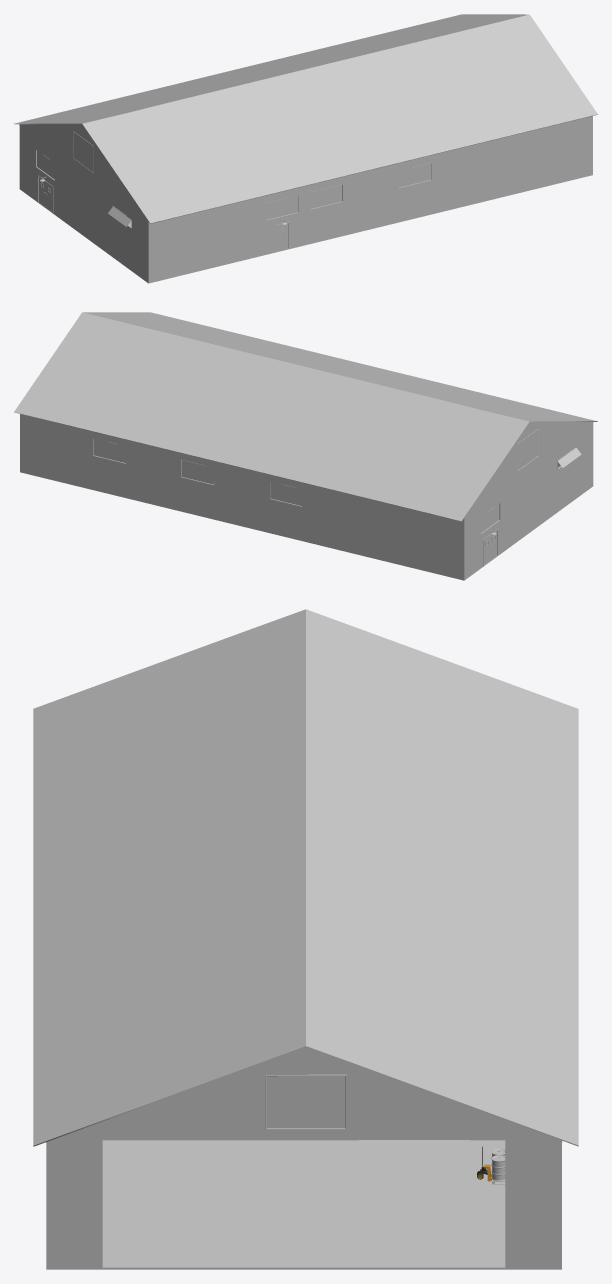
File: AirportAngar02.fbx
3 renders of one model, top to bottom at view 1: azimuth 30°, elevation 25°; view 2: azimuth 150°, elevation 25°; view 3: azimuth 270°, elevation 25°, orthographic. The views are drawn at different scales.
Parts seen in each view (by area): view 1: WHRoofWall3, WHWall1.001, WHFloor.003; view 2: WHRoofWall3, WHWall1.001, WHFloor.003; view 3: WHRoofWall3, WHFloor.003, WHWall1.001.
Part boxes in pixels (x1,y1,x2,y2): WHRoofWall3: [14, 14, 597, 223]; WHWall1.001: [19, 116, 592, 282]; WHFloor.003: [19, 174, 592, 283]; WHRoofWall3: [14, 312, 597, 521]; WHWall1.001: [20, 414, 593, 579]; WHFloor.003: [20, 471, 593, 580]; WHRoofWall3: [33, 609, 578, 1146]; WHFloor.003: [46, 1140, 561, 1269]; WHWall1.001: [46, 1140, 562, 1268].
Size of the model in its own units: 4087 by 974 by 2137.
